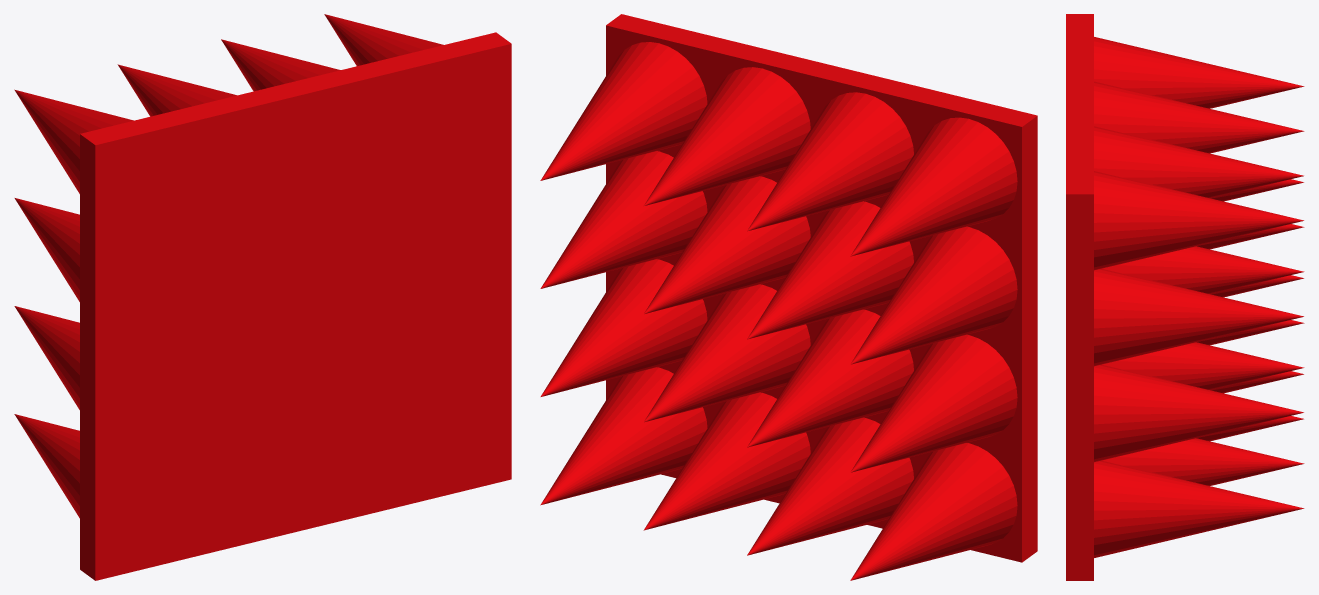
Rendered from Spikes_Sroda.fbx.
The picture shows the model from 3 angles, left to right: view 1: azimuth 30°, elevation 25°; view 2: azimuth 150°, elevation 25°; view 3: azimuth 270°, elevation 25°; orthographic projection. The views are drawn at different scales.
Visible parts, largest first — view 1: Cube, Spike; view 2: Spike, Cube; view 3: Spike, Cube.
Boxes of the visible parts, left/top/right/bottom form: Cube: left=80, top=32, right=511, bottom=580; Spike: left=14, top=14, right=443, bottom=518; Spike: left=540, top=42, right=1017, bottom=580; Cube: left=606, top=14, right=1037, bottom=562; Spike: left=1094, top=37, right=1304, bottom=557; Cube: left=1066, top=14, right=1093, bottom=580.
Size of the model in its own units: 163 by 163 by 91.17.
